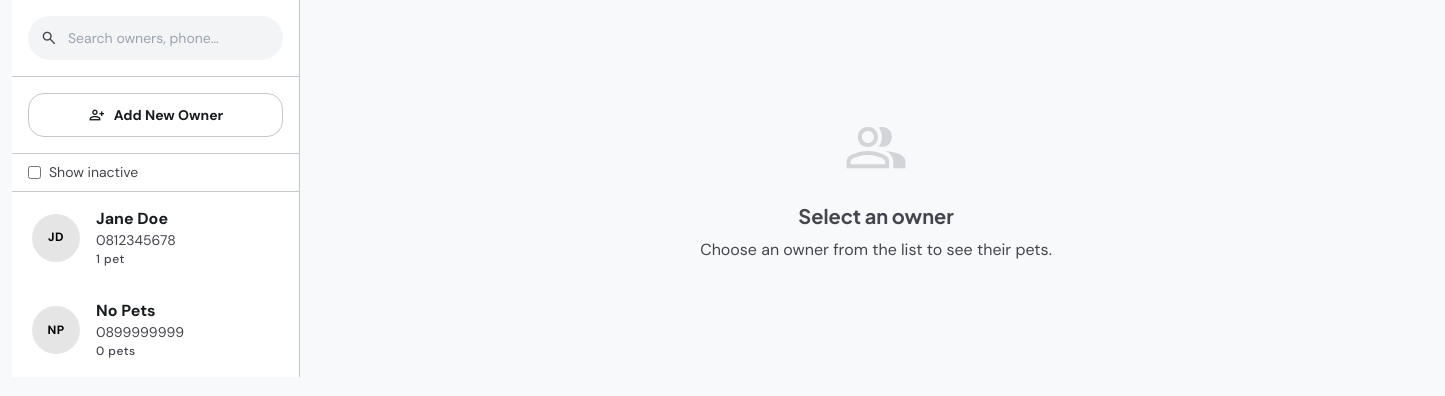
Test: ClinicPets — owner list board states › OwnerPanel shows "No pets yet. Add one above." for an owner with zero pets
Click the text "No Pets": click(126, 311) [96, 300, 156, 322]
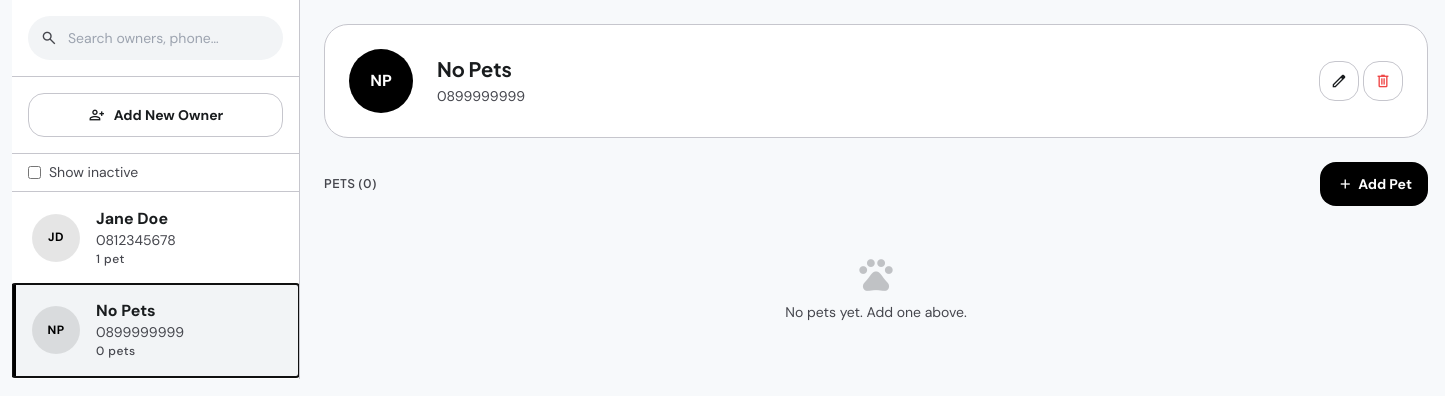
Check: the text "No pets yet. Add one above." is shown, box [785, 303, 967, 321]
